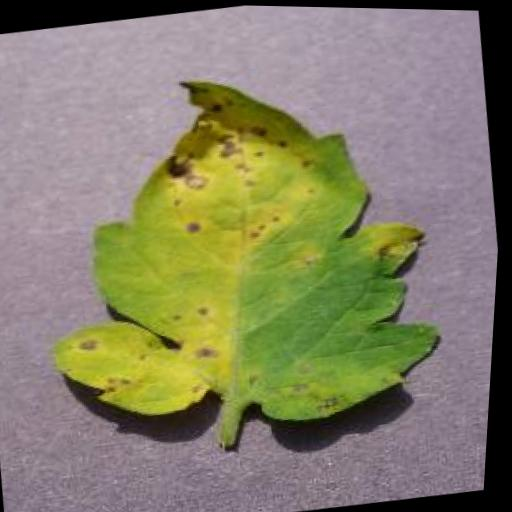Septoria: (21, 45, 468, 459)
